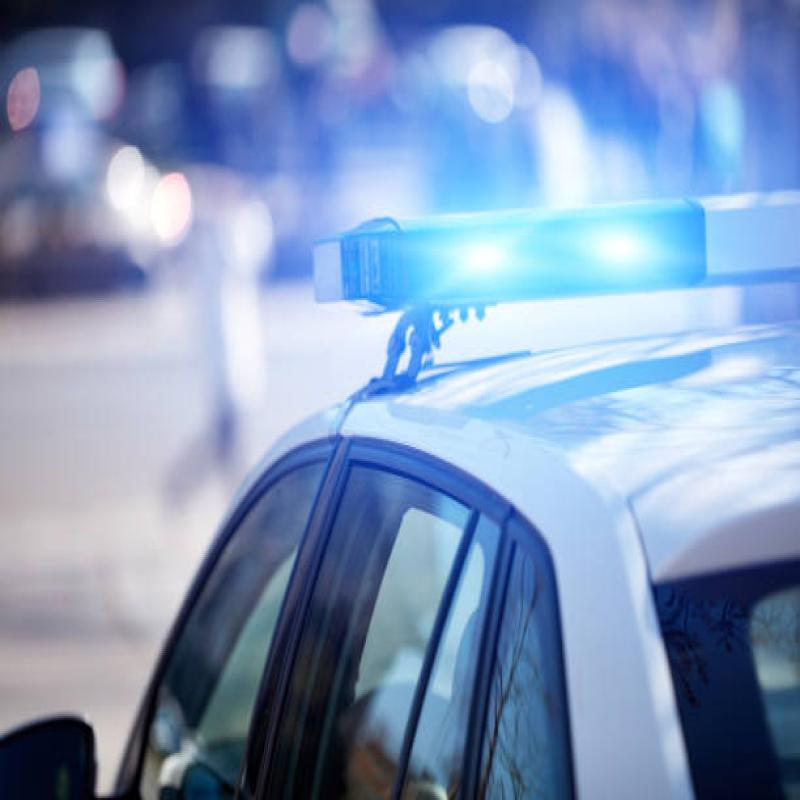AmbulanceSiren: (285, 185, 798, 360)
